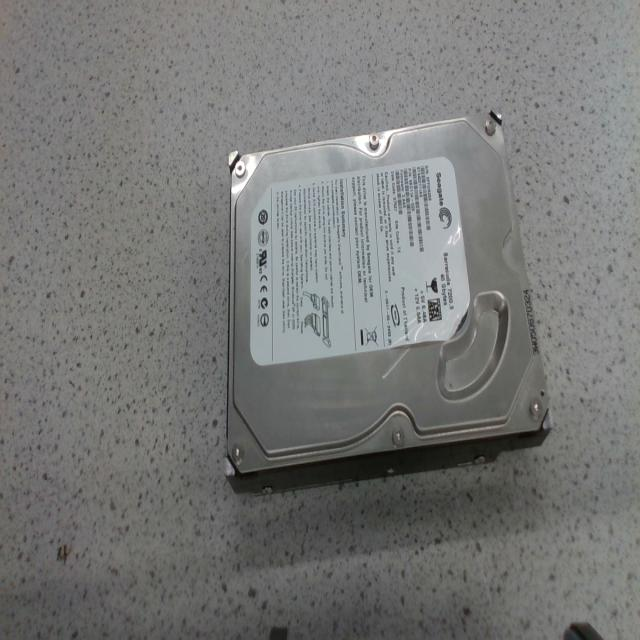case: (227, 429, 549, 494)
label: (251, 160, 468, 364)
lid: (227, 111, 551, 473)
screw: (529, 398, 543, 419), (232, 444, 244, 466), (392, 427, 404, 448), (234, 159, 245, 178), (368, 134, 379, 150), (486, 118, 496, 135)
